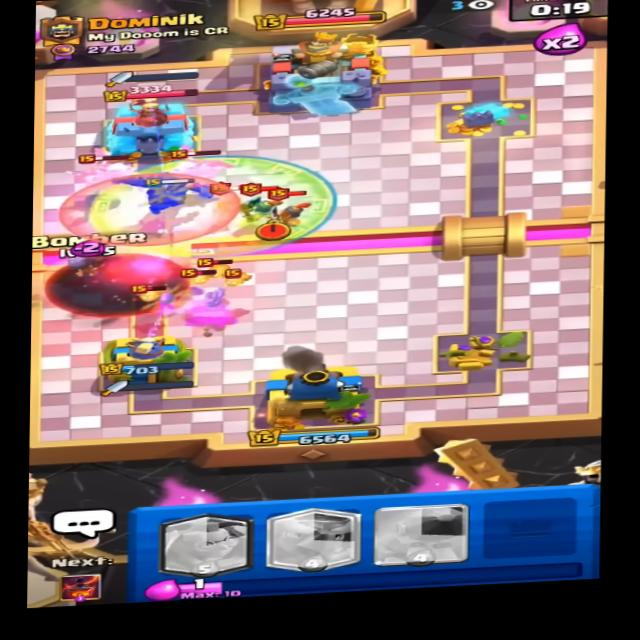Guards: (269, 193, 320, 233), (237, 181, 281, 226)
Skeletondragon: (163, 146, 227, 194), (73, 153, 137, 193)
Void: (40, 252, 185, 320)
